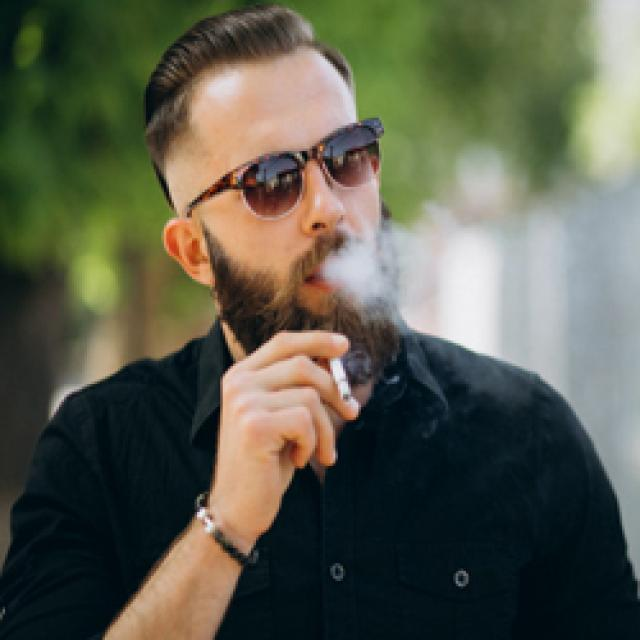Smooking: (313, 348, 371, 418)
